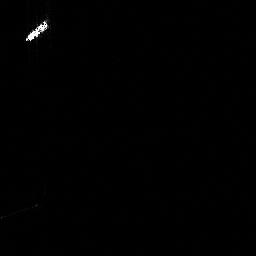ship: (22, 17, 52, 43)
